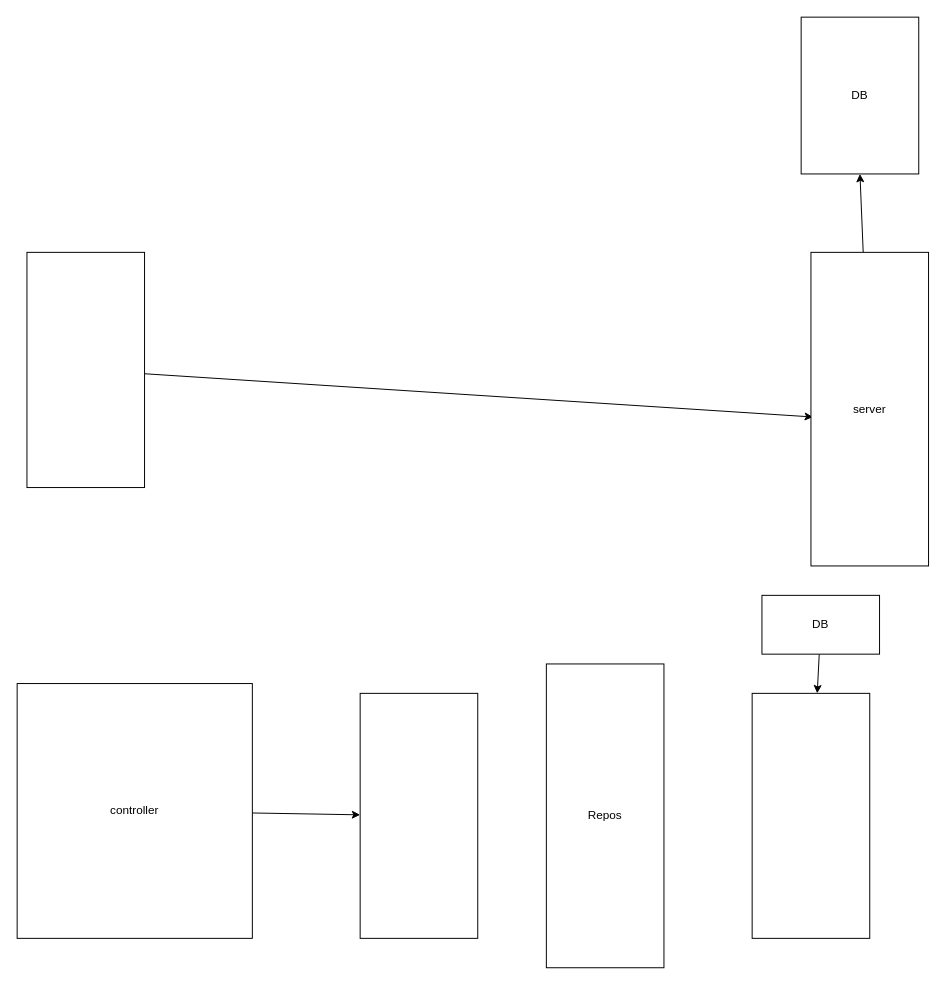
The diagram is 946 pixels wide and 985 high, and some of its shapes have lost their labels. Each missing label, with the box of its shape:
Clent: (26, 251, 145, 488)
Model: (751, 692, 870, 938)
Service: (359, 692, 478, 938)
